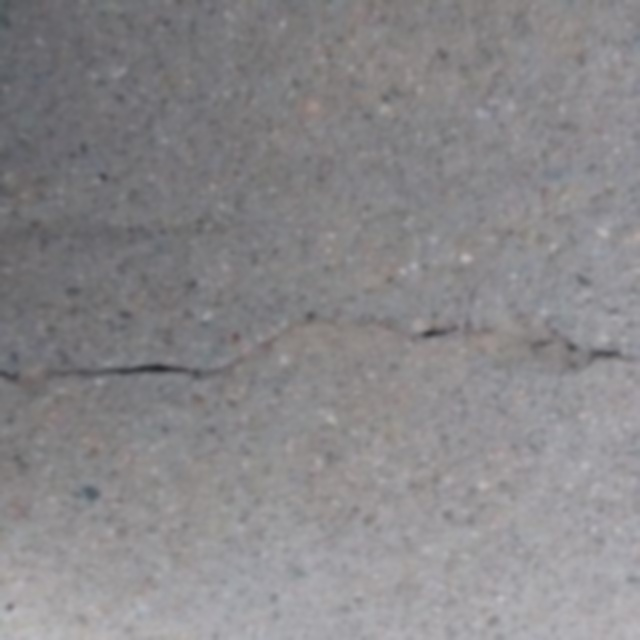SurfaceCrack: (0, 304, 634, 406)
